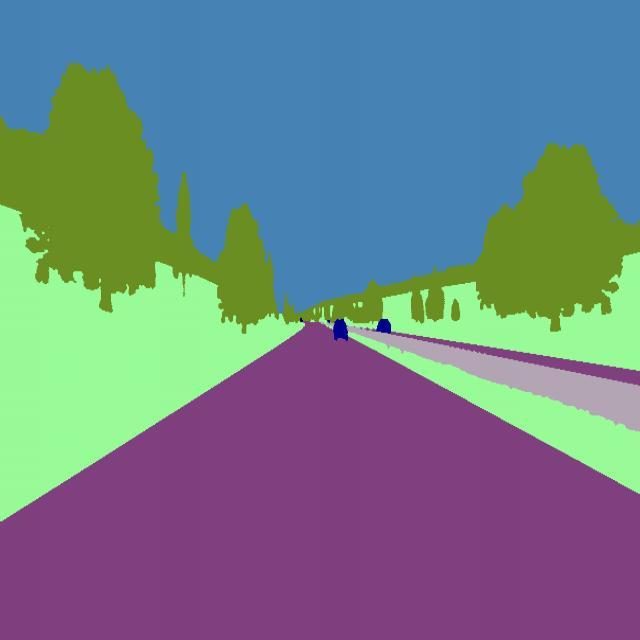safe: (330, 314, 352, 346), (375, 312, 393, 339)
